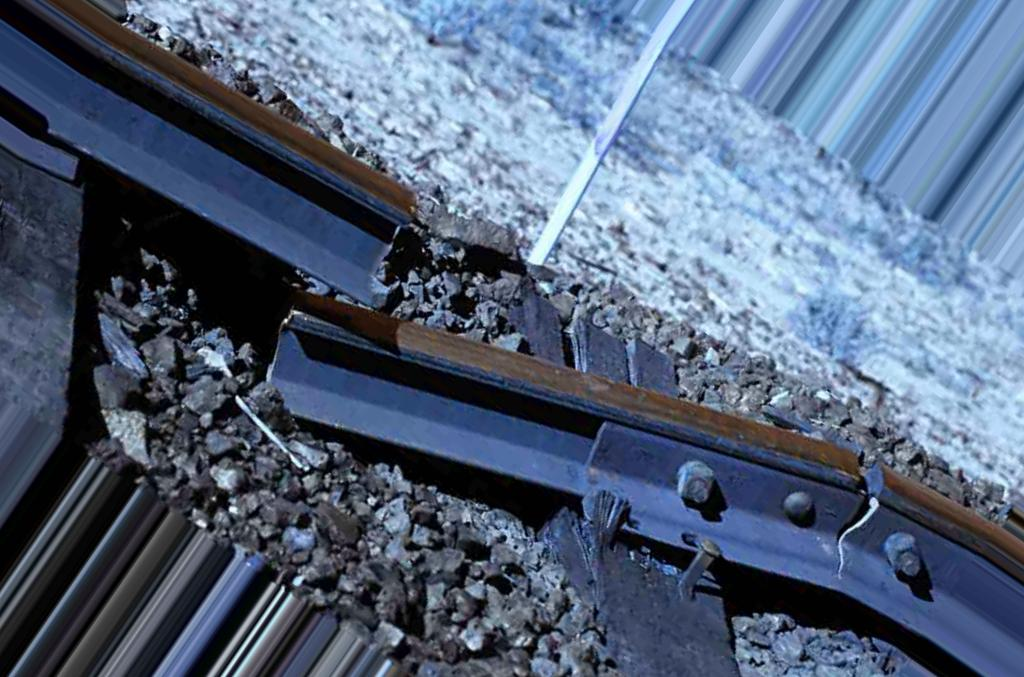tracks_fault: (232, 173, 908, 597)
